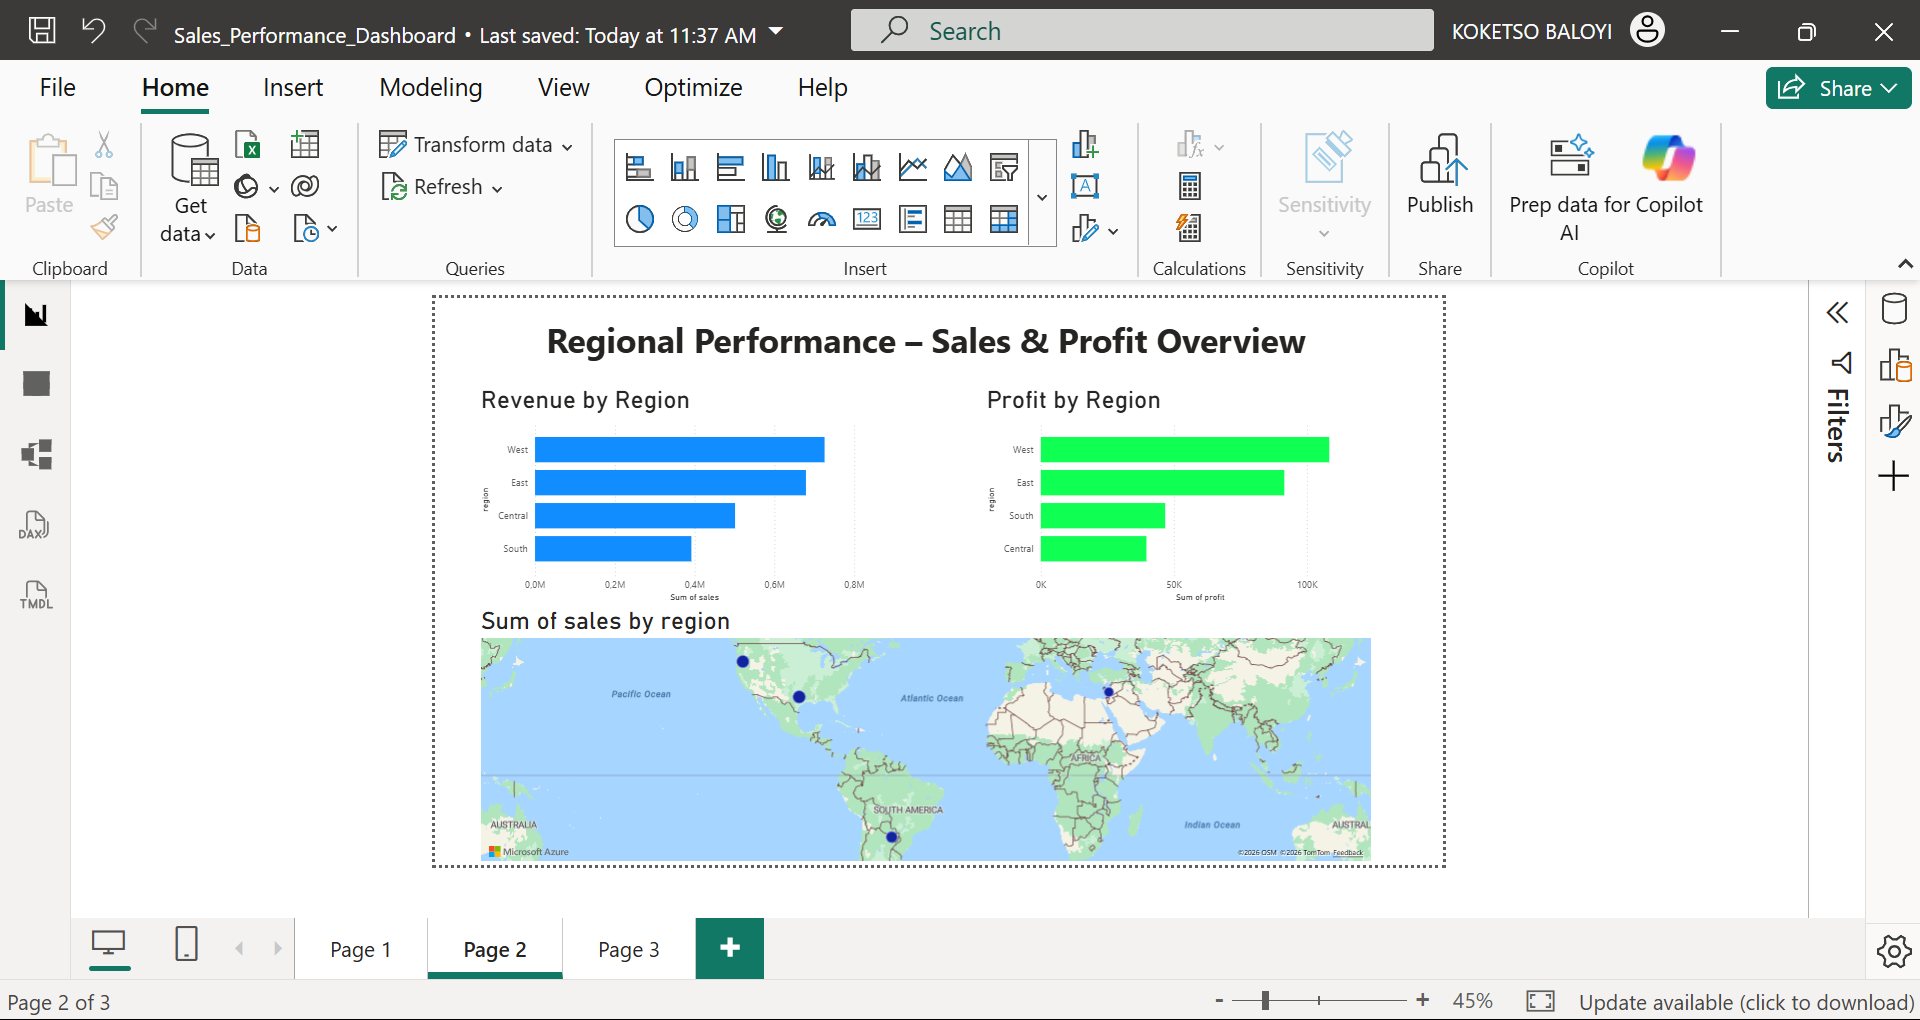

Layout of this report page (visuals, bound fields, positions):
{"tool":"powerbi","page":{"name":"Page 2","canvas":[1280,720],"ordinal":1},"visuals":[{"type":"clusteredBarChart","title":"Revenue by Region","fields":{"Category":["sales_data.region"],"Y":["Sum(sales_data.sales)"]},"box":[54,112,498,280],"z":0},{"type":"clusteredBarChart","title":"Profit by Region","fields":{"Category":["sales_data.region"],"Y":["Sum(sales_data.profit)"]},"box":[696,112,498,280],"z":1},{"type":"azureMap","fields":{"Category":["sales_data.region"],"Size":["Sum(sales_data.sales)"]},"box":[54,392,1140,328],"z":2},{"type":"textbox","box":[54,18,1140,80],"z":3}]}

Visuals, with their boxes on the page's 1280x720 design canvas (x1, y1, x2, y2). These are canvas units, not pixel positions in the 1920x1020 screenshot, which may show the page scaled, cropped or inside an application window:
"Revenue by Region" clusteredBarChart: Rect(54, 112, 552, 392)
"Profit by Region" clusteredBarChart: Rect(696, 112, 1194, 392)
azureMap - sales_data.region x Sum(sales_data.sales): Rect(54, 392, 1194, 720)
textbox: Rect(54, 18, 1194, 98)
